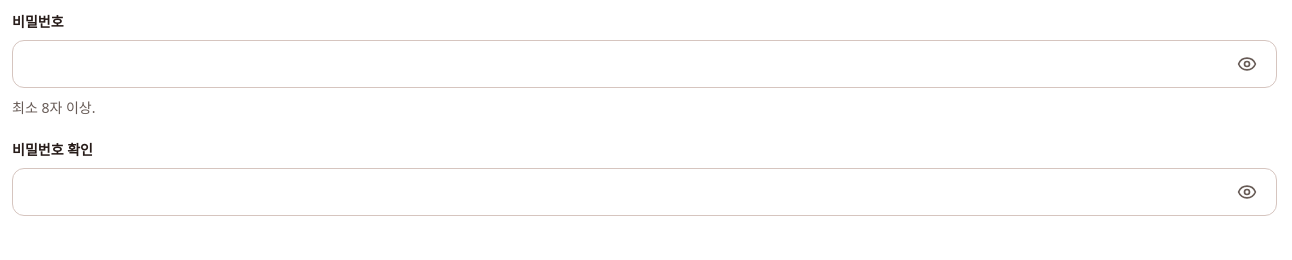
live password feedback › toggles each password independently without submitting in ko
Type "abcdefgh" into the password field labelled "비밀번호". click: x=644, y=64
box: [12,40,1277,88]
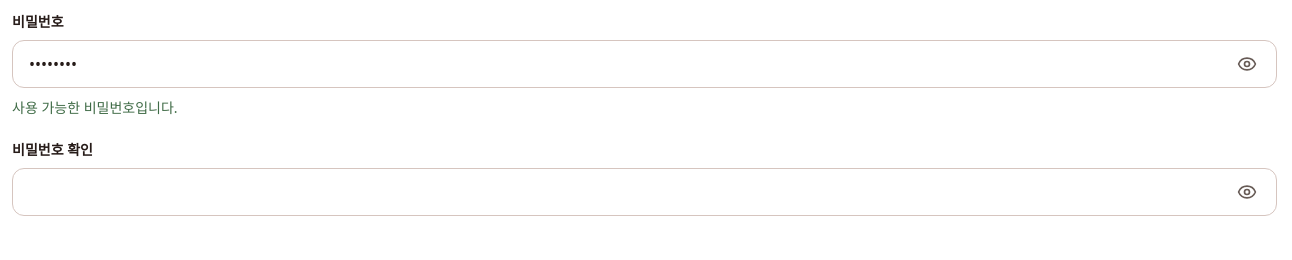
Type "abcdefgh" into the password field labelled "비밀번호 확인". click: x=644, y=192
box: [12,168,1277,216]
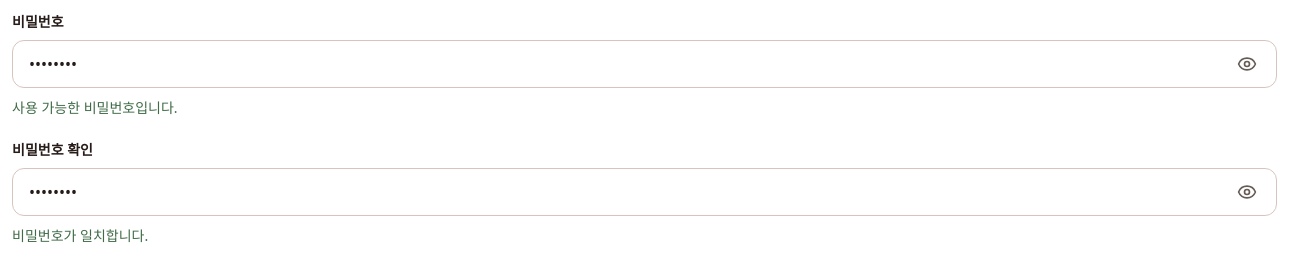
Click the button named "비밀번호 표시". click: x=1247, y=64
box: [1225,42,1269,86]
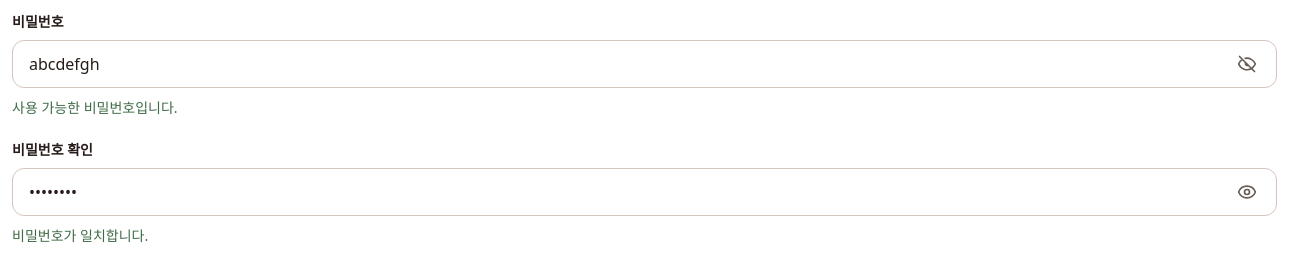
Expected: the field labelled "비밀번호" shows its text, [12,40,1277,88]
Click the button named "비밀번호 확인 표시". click: x=1247, y=192
box: [1225,170,1269,214]
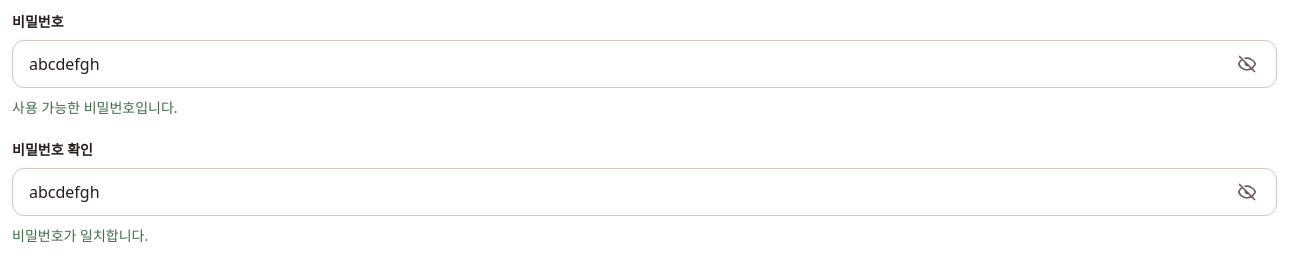
Expected: the field labelled "비밀번호 확인" shows its text, [12,168,1277,216]
Click the button named "비밀번호 숨기기". click: x=1247, y=64
box: [1225,42,1269,86]
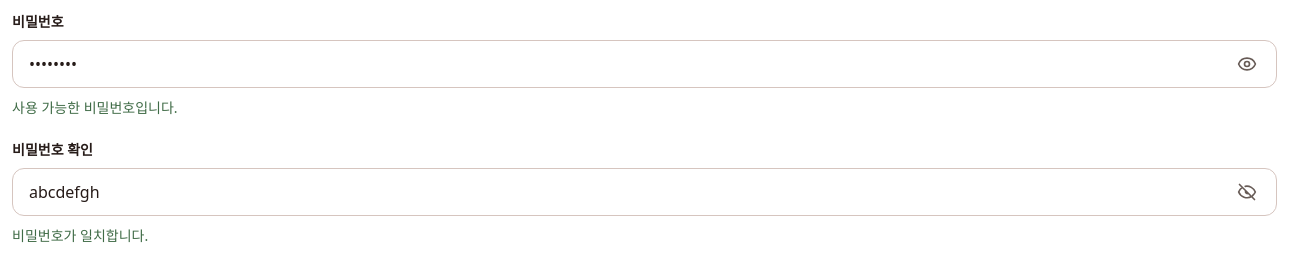
Expected: the field labelled "비밀번호 확인" shows its text, [12,168,1277,216]
Expected: the password field labelled "비밀번호" hides its text, [12,40,1277,88]
Click the button named "비밀번호 확인 숨기기". click: x=1247, y=192
box: [1225,170,1269,214]
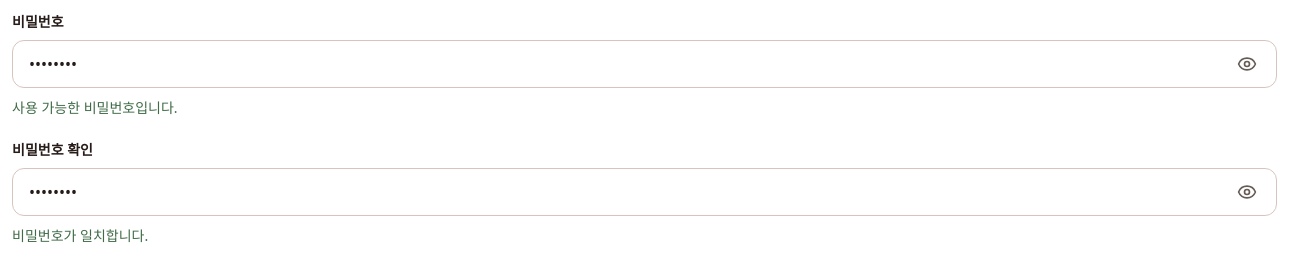
Expected: the password field labelled "비밀번호 확인" hides its text, [12,168,1277,216]
